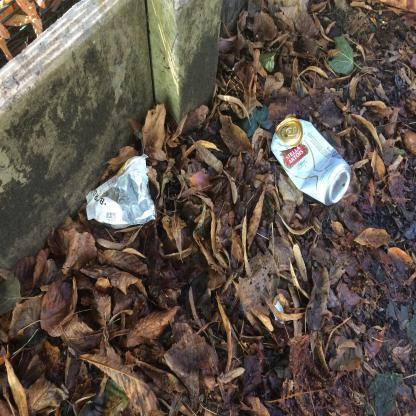metal: (270, 118, 353, 208)
plastik: (87, 154, 159, 230)
